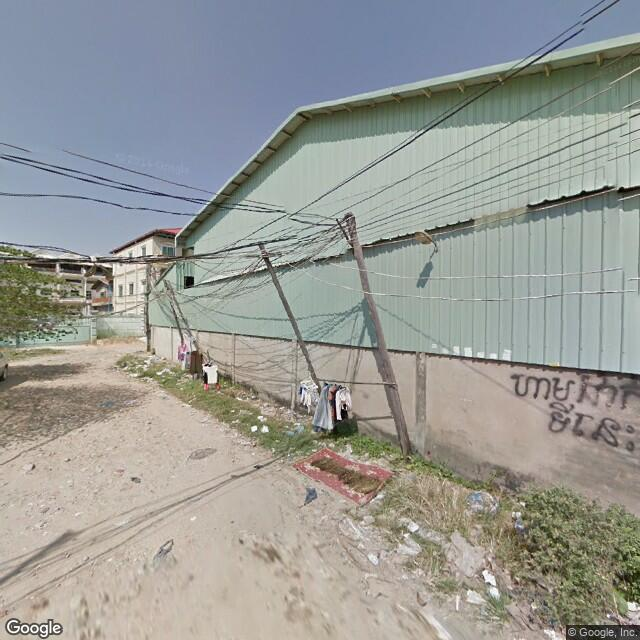litter: (477, 563, 509, 600), (245, 408, 276, 444), (458, 482, 490, 514), (510, 506, 527, 534)
